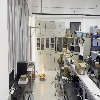fire: (40, 54, 45, 77)
